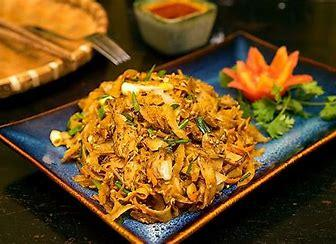Kottu: (67, 51, 261, 212)
